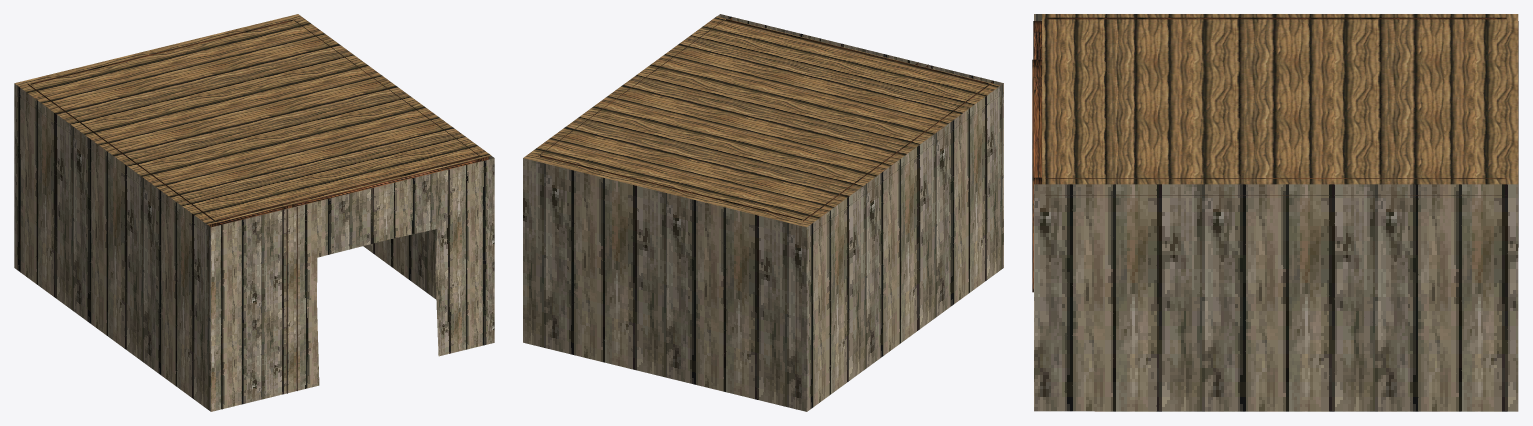
File: LAKETOWN_WAREHOUSE2_PS_WH2_WH3_WEAPONROOM__GX.fbx
3 renders of one model, left to right at view 1: azimuth 30°, elevation 25°; view 2: azimuth 150°, elevation 25°; view 3: azimuth 270°, elevation 25°, orthographic. The views are drawn at different scales.
Parts seen in each view (by area): view 1: LAKETOWN_WAREHOUSE2_PS_WH2_WH3_WEAPONROOM__GX; view 2: LAKETOWN_WAREHOUSE2_PS_WH2_WH3_WEAPONROOM__GX; view 3: LAKETOWN_WAREHOUSE2_PS_WH2_WH3_WEAPONROOM__GX.
Boxes of the visible parts, x1,y1,x2,y2 form: LAKETOWN_WAREHOUSE2_PS_WH2_WH3_WEAPONROOM__GX: (14,14,494,411); LAKETOWN_WAREHOUSE2_PS_WH2_WH3_WEAPONROOM__GX: (523,14,1003,411); LAKETOWN_WAREHOUSE2_PS_WH2_WH3_WEAPONROOM__GX: (1032,14,1518,411).
Size of the model in its own units: 67110 by 41955 by 80826.
Materials: 3 (3 with a texture image).
